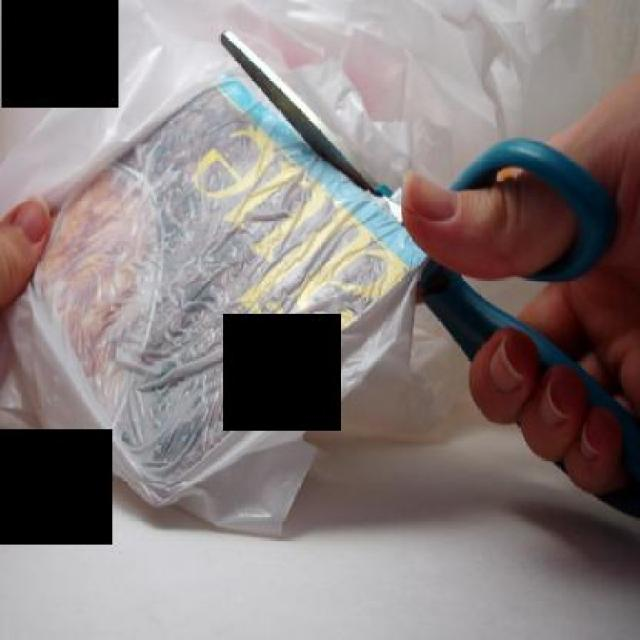plastic bag: (0, 0, 638, 540)
